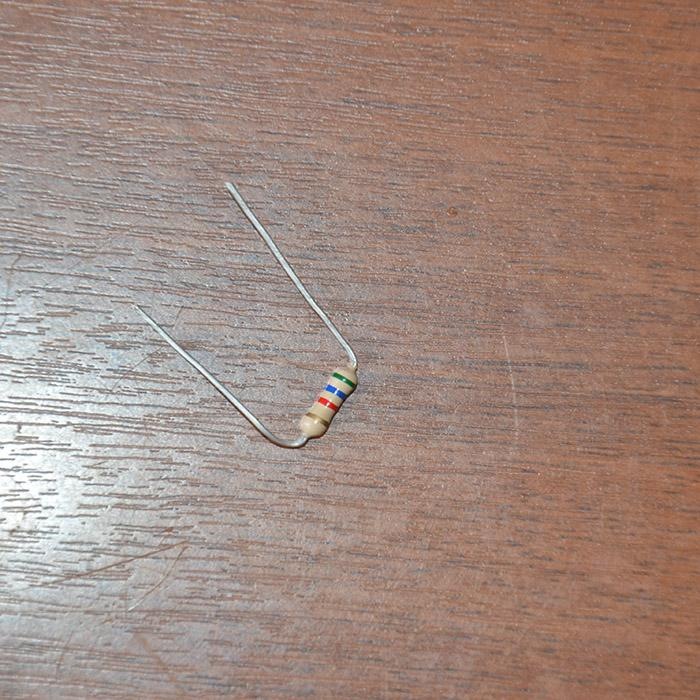resistor: (301, 365, 358, 437)
